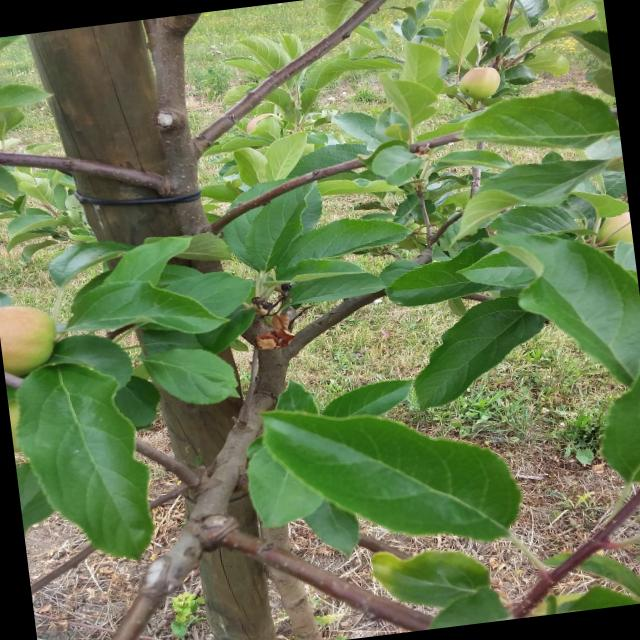-FireBlight-: (257, 300, 291, 361)
